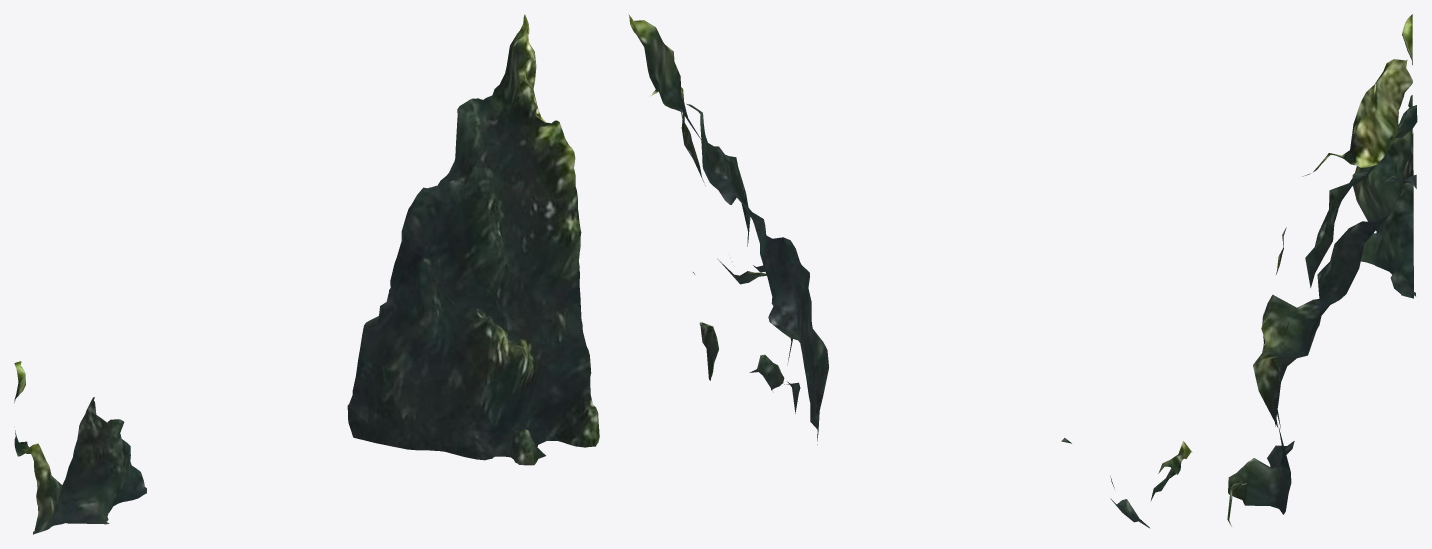
Rendered from Tile_+006_+007_L22_0002150.glb.
The picture shows the model from 3 angles, left to right: view 1: azimuth 30°, elevation 25°; view 2: azimuth 150°, elevation 25°; view 3: azimuth 270°, elevation 25°; orthographic projection. The views are drawn at different scales.
Visible parts, largest first — view 1: rtc; view 2: rtc; view 3: rtc.
Boxes of the visible parts, <box> form: rtc: <box>14,14,599,534</box>; rtc: <box>628,14,1192,528</box>; rtc: <box>1227,14,1417,526</box>.
Size of the model in its own units: 8.83 by 6.26 by 2.22.
1 material, 1 textured.
